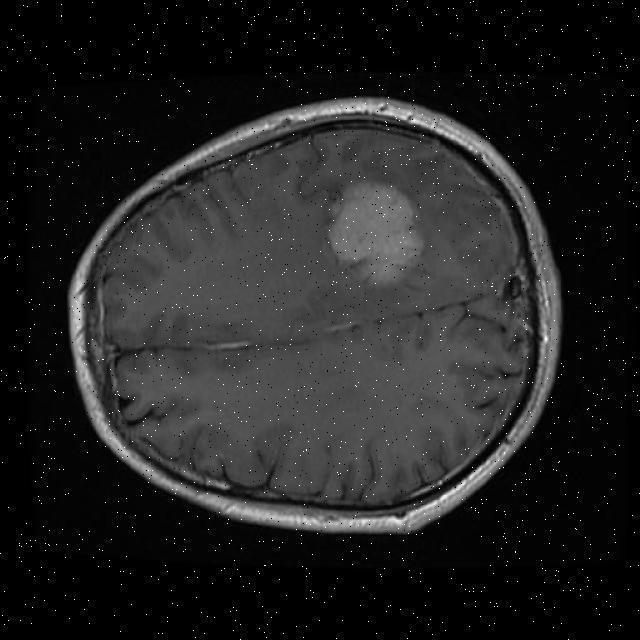Meningioma: (330, 183, 422, 284)
